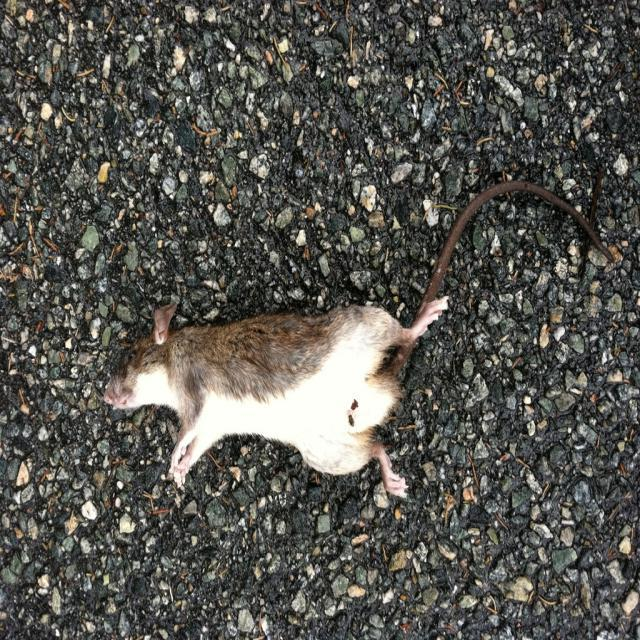rat: (104, 180, 613, 496)
